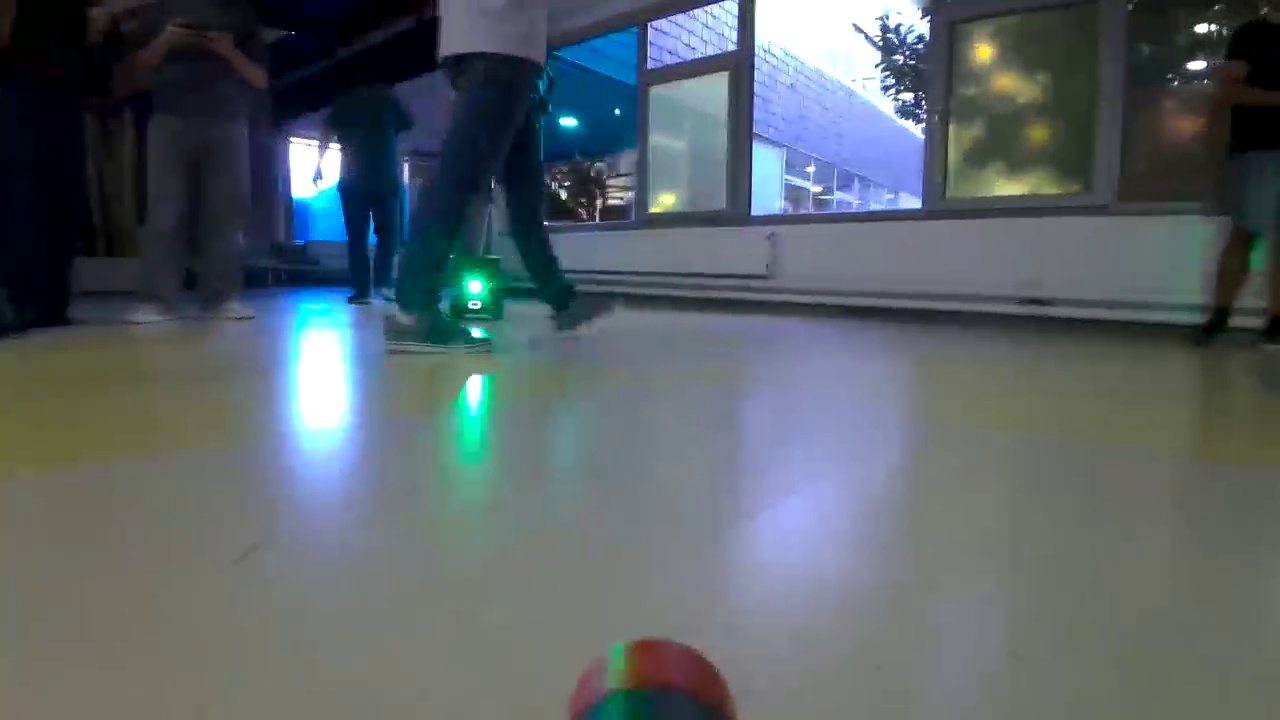robot: (454, 256, 503, 319)
